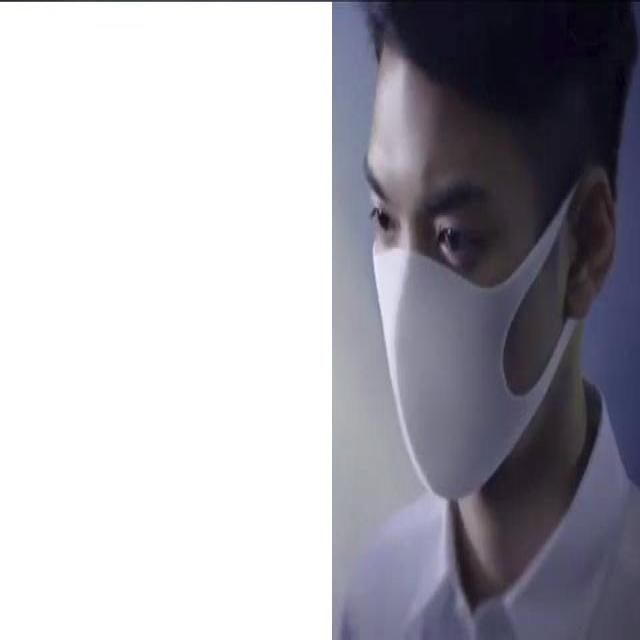mask: (366, 72, 532, 500)
